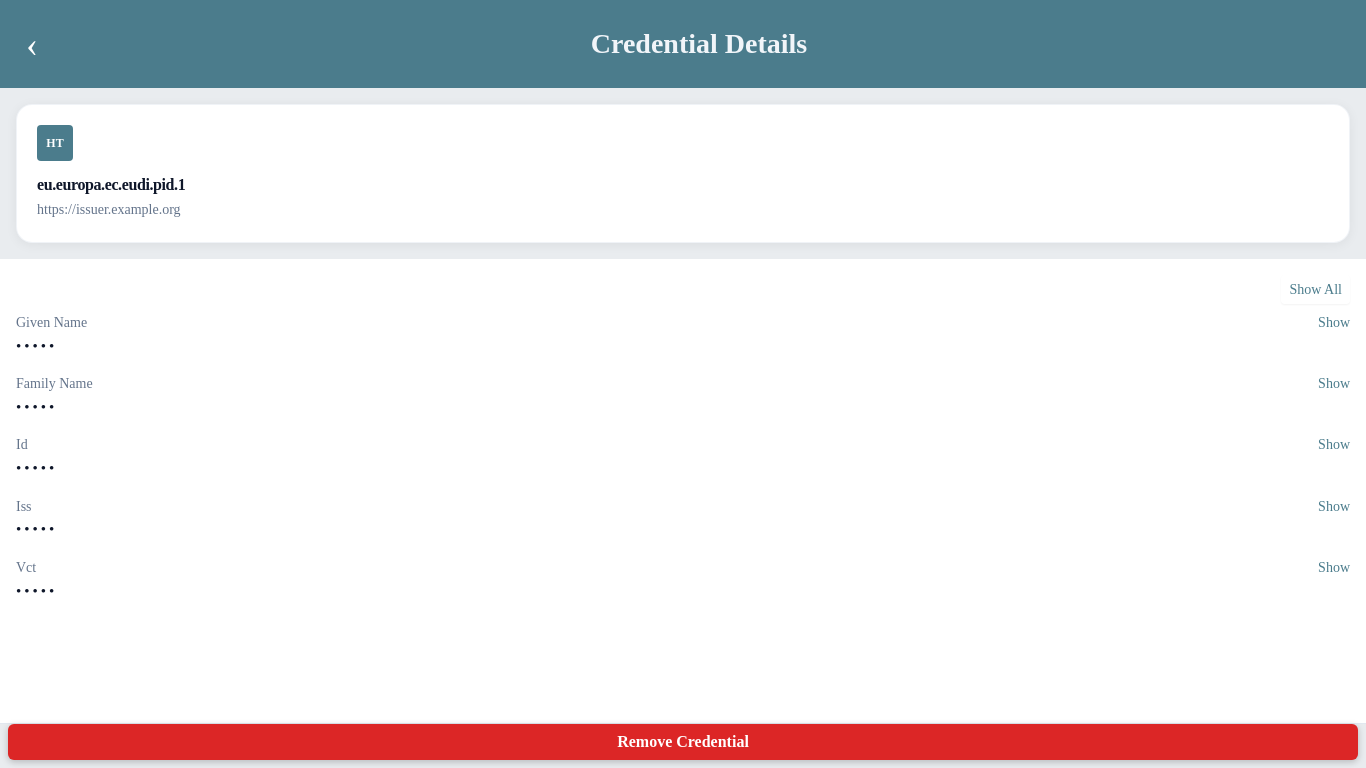
Test: CredentialDetailPage › reveals and hides fields individually and via show-all toggle
Expected: the text named "Given Name hidden" is shown, left=16, top=338, right=57, bottom=354
Click the button with aria-label "Show Given Name" at (1334, 322), box left=1314, top=312, right=1354, bottom=333
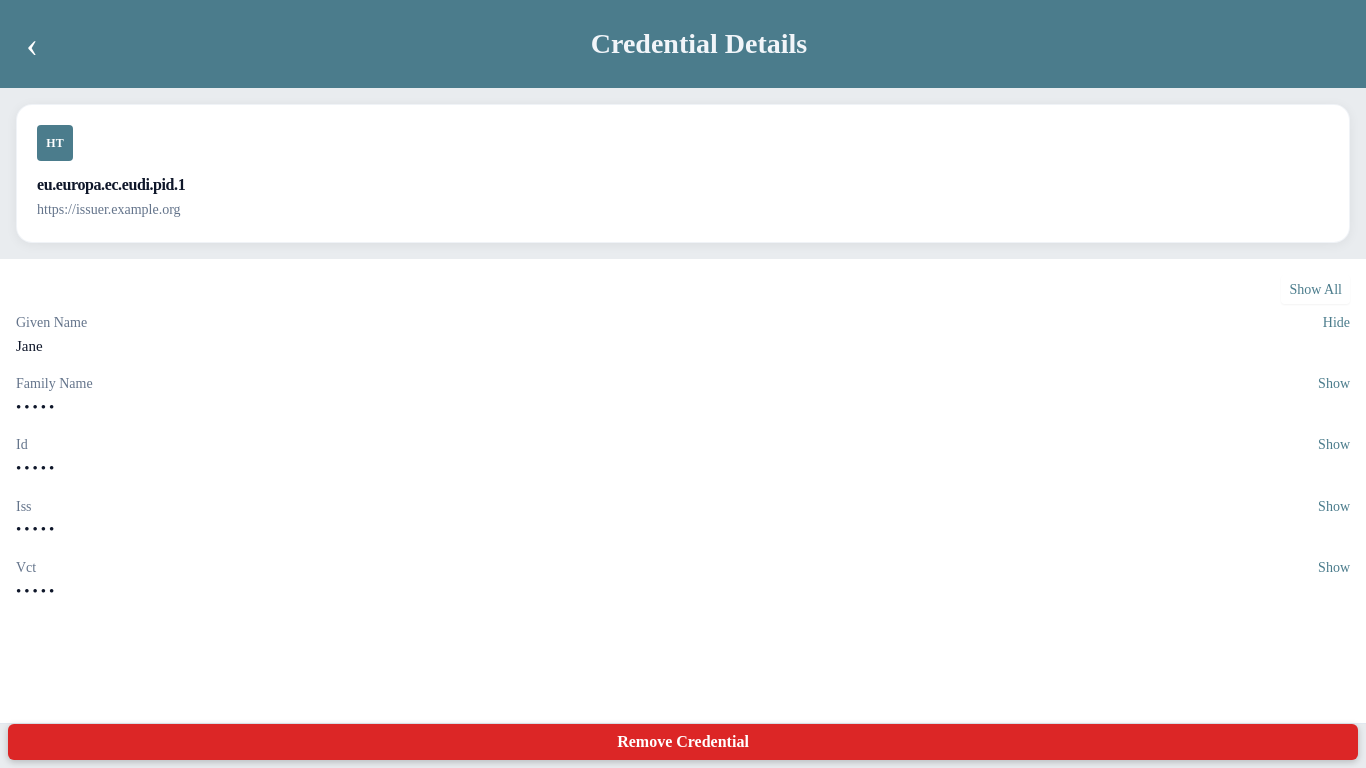
Expected: the text labelled "Jane" is shown, left=16, top=338, right=43, bottom=354
Click the button with aria-label "Hide Given Name" at (1336, 322), box left=1319, top=312, right=1354, bottom=333
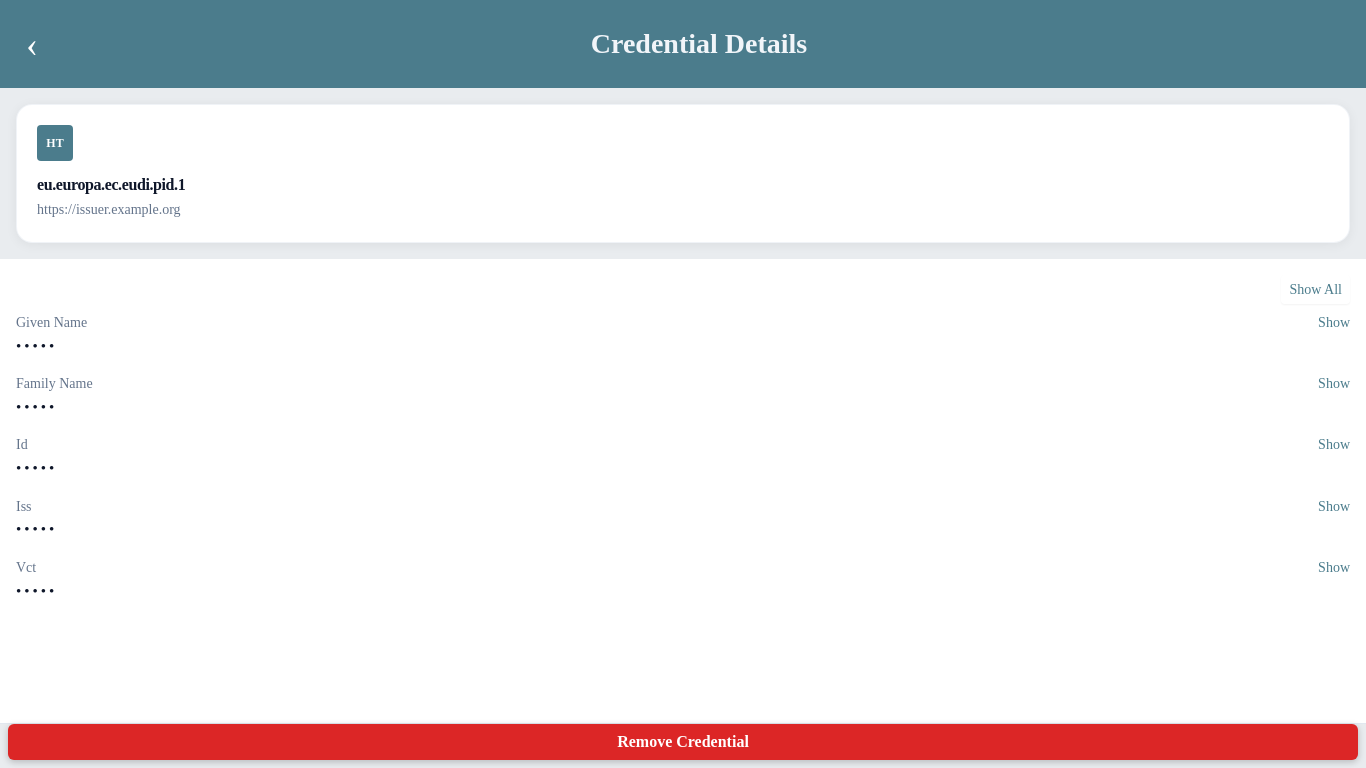
Expected: the text named "Given Name hidden" is shown, left=16, top=338, right=57, bottom=354
Click the button with aria-label "Show all fields" at (1316, 289), box left=1282, top=275, right=1350, bottom=304
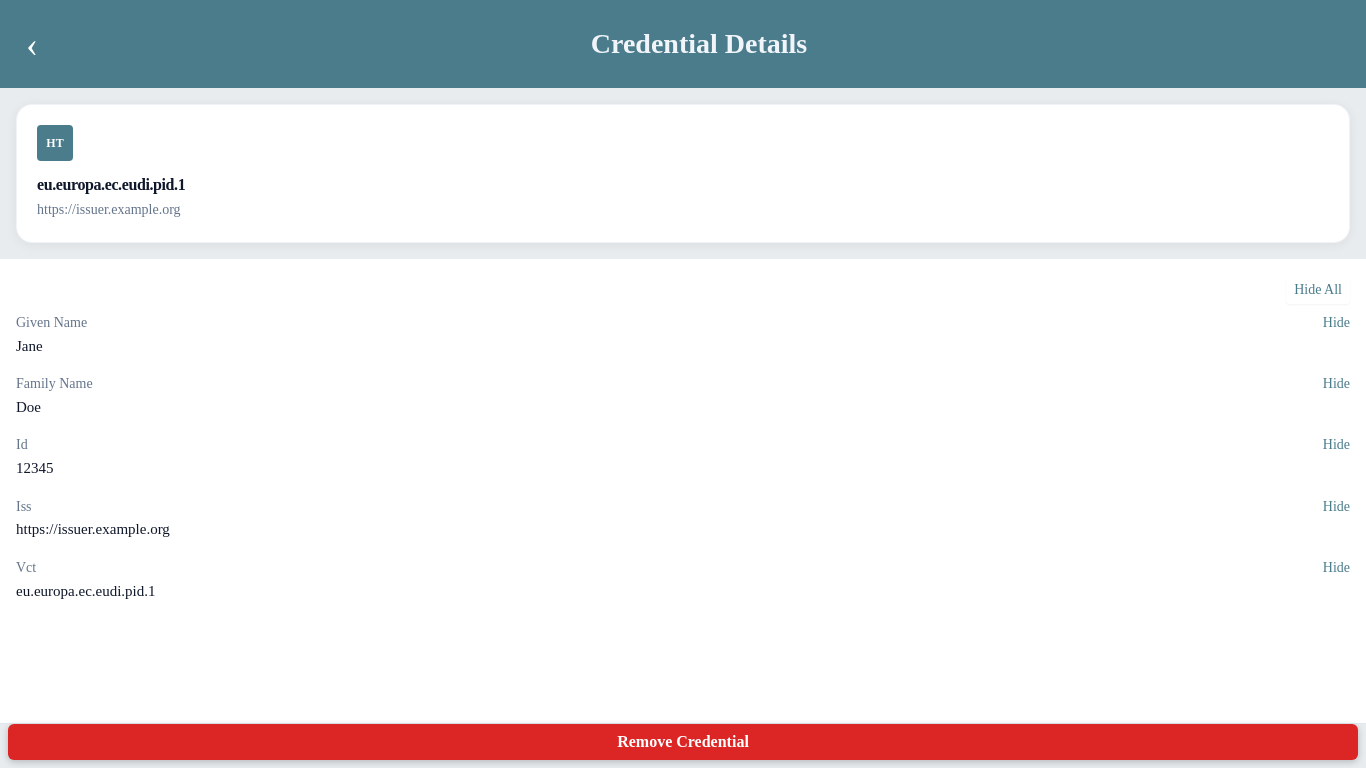
Expected: the button with aria-label "Hide all fields" is shown
Expected: the text labelled "Doe" is shown, left=16, top=399, right=41, bottom=415
Click the button with aria-label "Hide all fields" at (1318, 289), box left=1286, top=275, right=1350, bottom=304
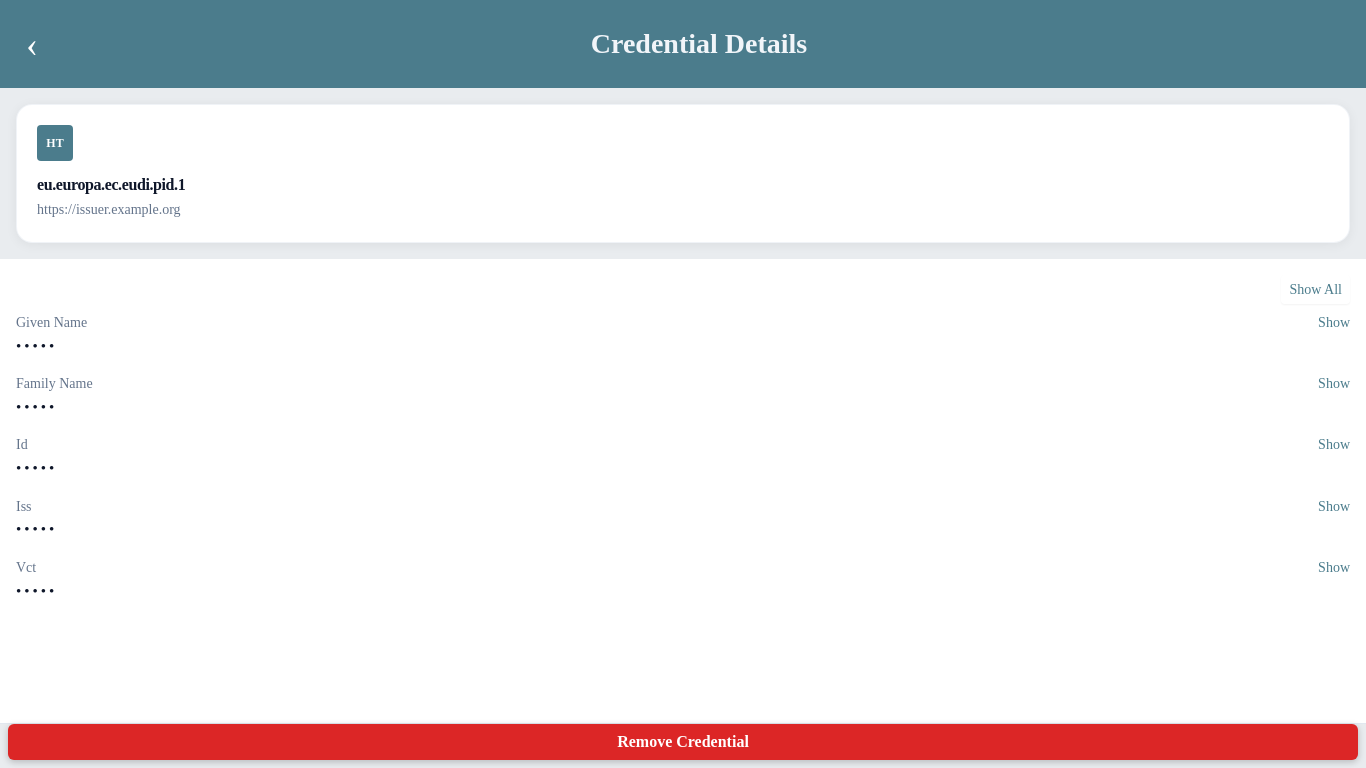
Expected: the text named "Family Name hidden" is shown, left=16, top=399, right=57, bottom=415
